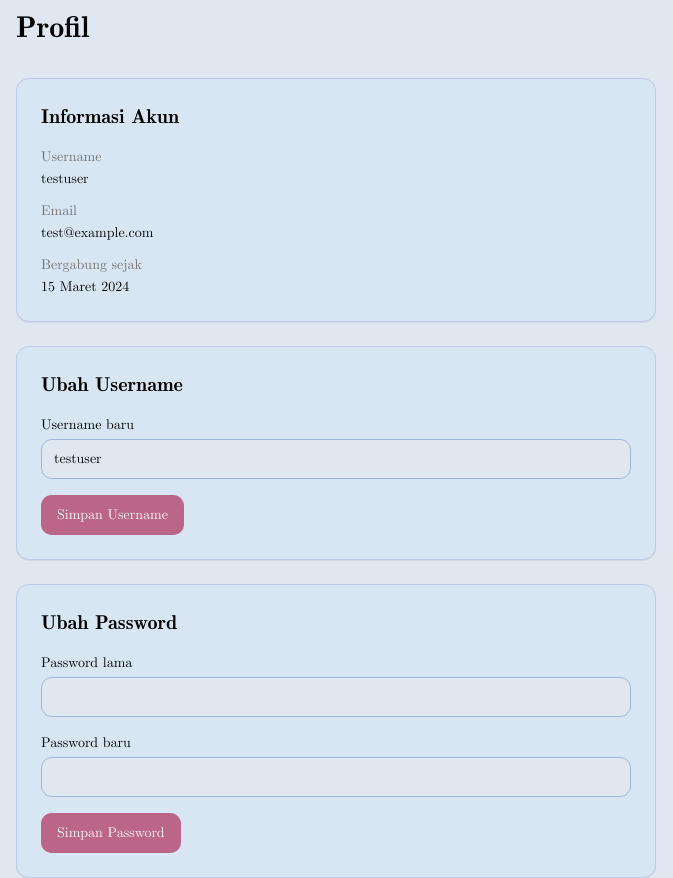
Scenario: ProfilePage › ubah password › menampilkan error validasi ketika password lama kosong
This screenshot has width=673, height=878.
Type "NewPass456" into the password field labelled "Password baru" at [336, 777], box [41, 757, 631, 797]
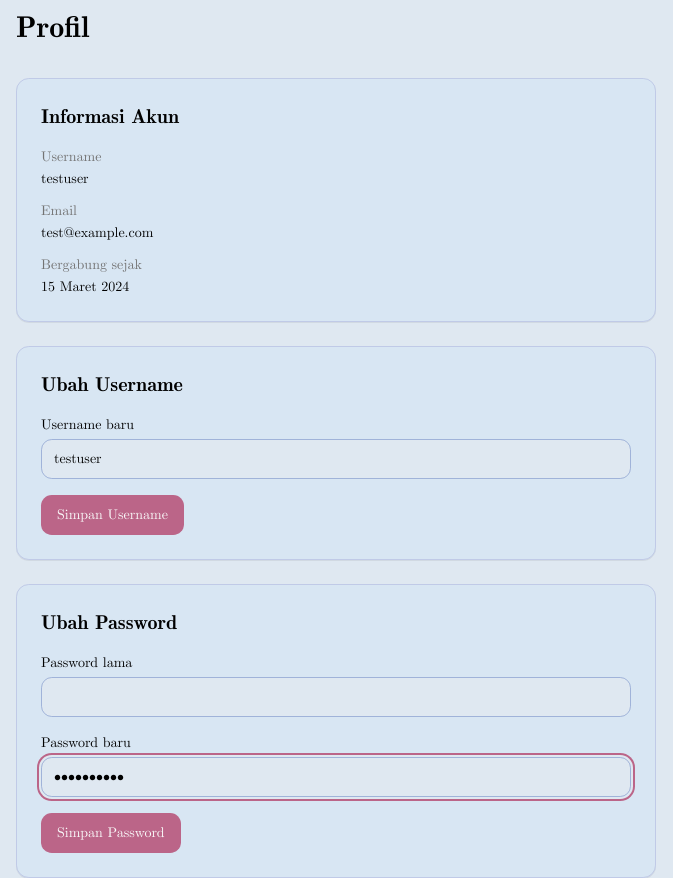
Click the button "Simpan Password" at [111, 833], box [41, 813, 181, 853]
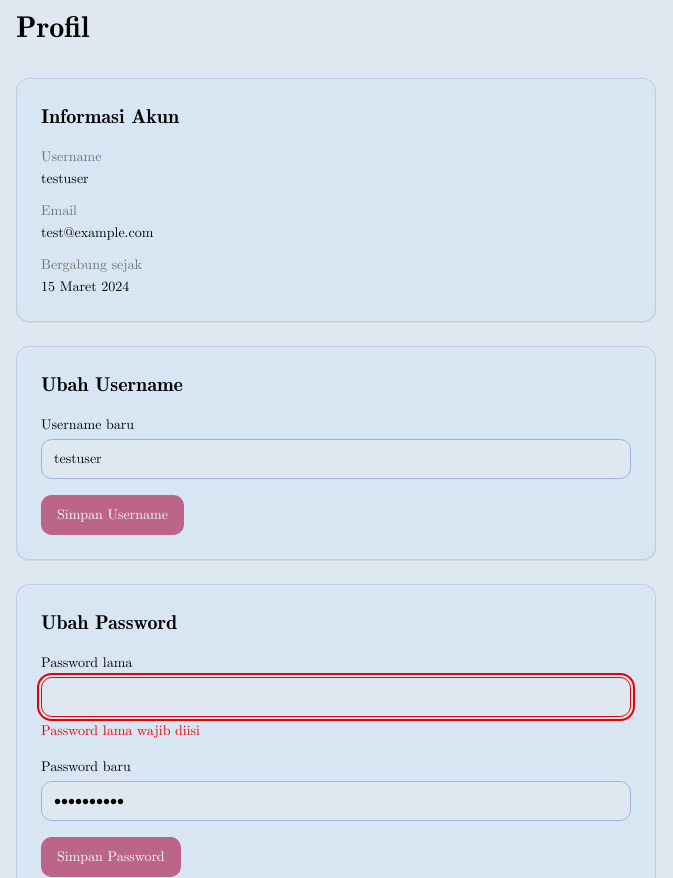
Expected: the text "Password lama wajib diisi" is shown, [41, 724, 200, 738]
